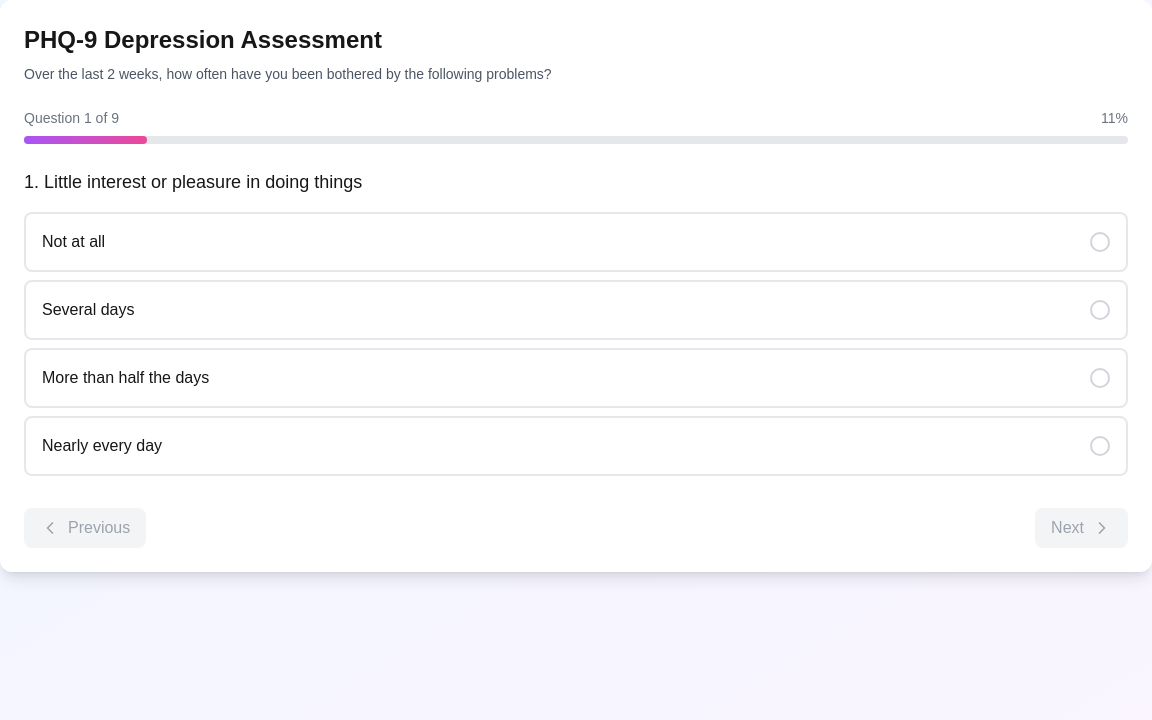
Test case: PHQ-9 Assessment › shows progress as user answers questions
expect the text "Question 1 of 9" is shown: met, box 24,108 -> 119,128
expect the text "11%" is shown: met, box 1101,108 -> 1128,128
Answer first question
Click the button "Not at all" at (74, 242), box 24,212 -> 1128,272
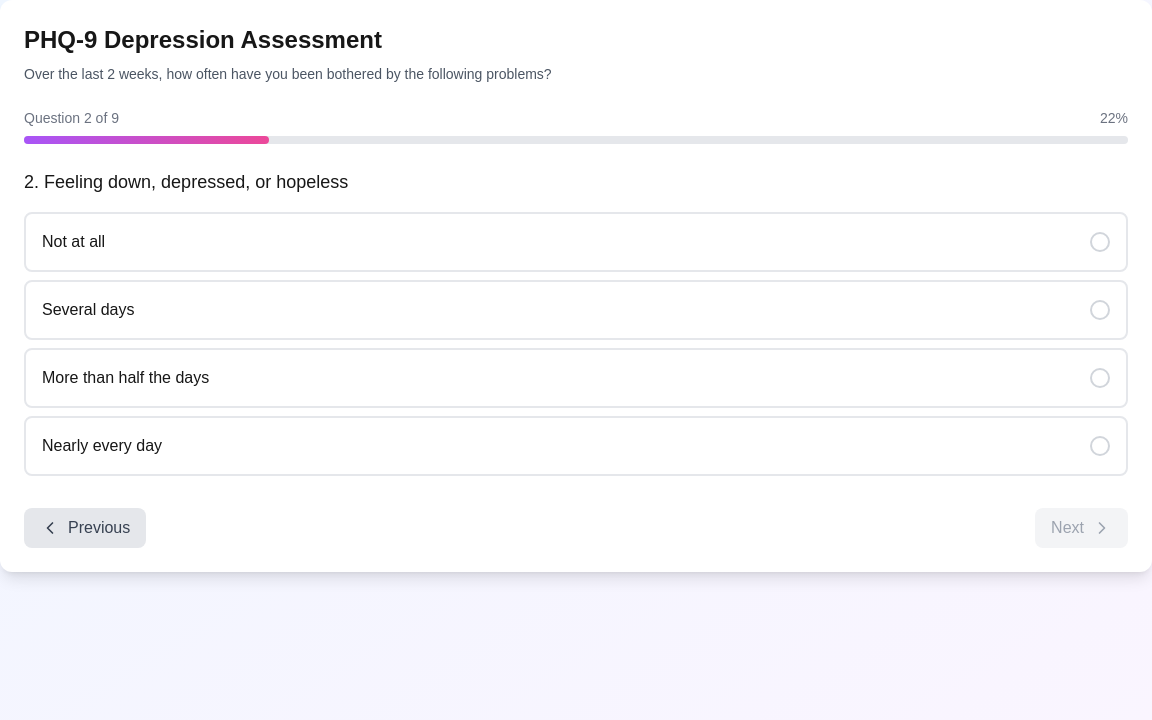
expect the text "Question 2 of 9" is shown: met, box 24,108 -> 119,128
expect the text "22%" is shown: met, box 1100,108 -> 1128,128
